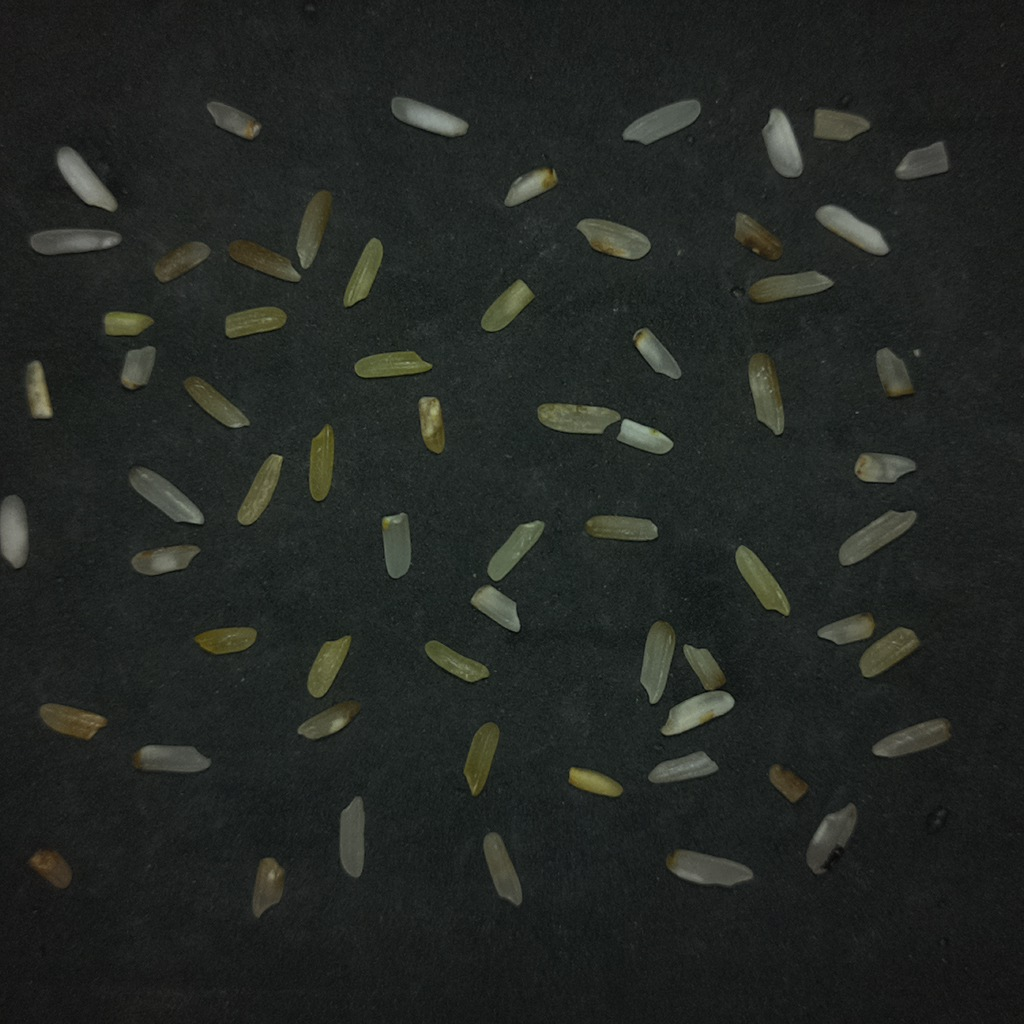broken: (895, 141, 949, 180), (813, 108, 870, 141)
chalky: (56, 146, 117, 211), (815, 204, 889, 255), (660, 690, 734, 735), (391, 96, 468, 137), (762, 108, 802, 177), (0, 495, 28, 568), (617, 418, 673, 454)
damaged: (806, 803, 856, 873), (666, 849, 753, 886), (576, 218, 650, 259), (640, 620, 675, 704), (537, 403, 620, 433), (297, 700, 360, 739), (39, 703, 107, 739), (633, 328, 681, 379), (734, 212, 782, 260), (471, 585, 520, 632), (154, 241, 210, 282), (132, 745, 211, 773), (207, 100, 260, 139), (504, 167, 557, 206), (252, 857, 284, 918), (876, 347, 914, 397), (584, 515, 657, 541), (684, 644, 725, 690), (382, 513, 411, 578), (854, 453, 916, 483), (817, 613, 874, 644), (27, 850, 71, 888), (120, 346, 156, 390), (26, 360, 52, 419), (769, 764, 808, 803)
discolored: (735, 545, 790, 615), (183, 376, 249, 427), (236, 453, 282, 525), (228, 240, 300, 282), (859, 627, 919, 677), (748, 353, 784, 435), (296, 190, 332, 269), (481, 279, 534, 332), (343, 238, 383, 307), (424, 640, 489, 682), (307, 635, 351, 697), (748, 271, 833, 303), (464, 722, 500, 797), (354, 350, 432, 378), (309, 424, 334, 501), (225, 307, 286, 338), (194, 627, 256, 654), (418, 396, 446, 454), (568, 767, 622, 797), (103, 312, 153, 336)
whole: (838, 510, 916, 565), (129, 467, 204, 524), (622, 99, 700, 144), (487, 520, 544, 581), (872, 718, 951, 757), (483, 833, 521, 905), (29, 228, 121, 255), (648, 751, 718, 783), (131, 545, 199, 575), (339, 796, 364, 877)
